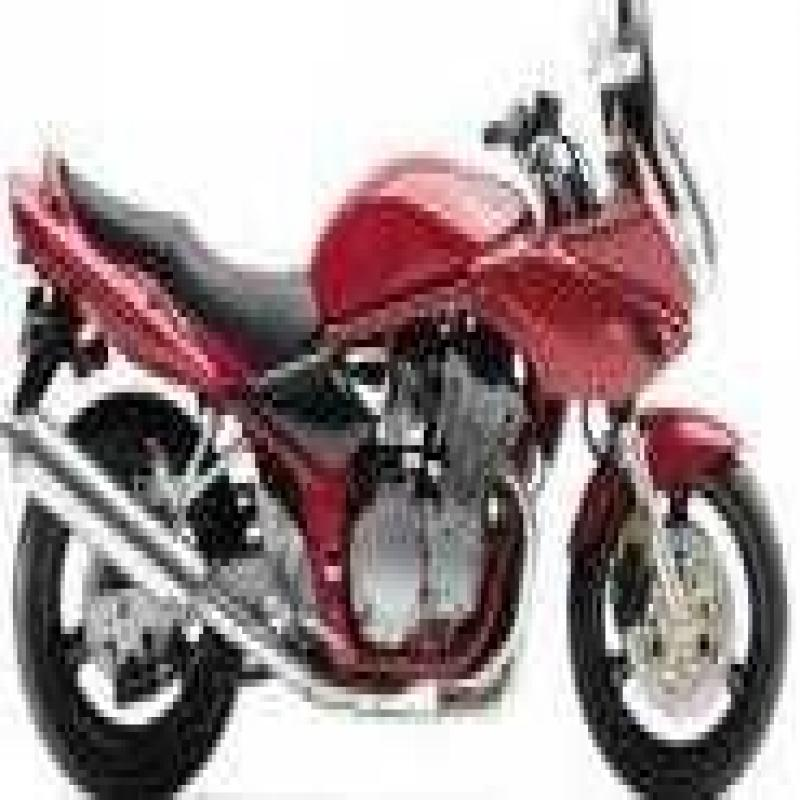bike: (4, 15, 800, 793)
